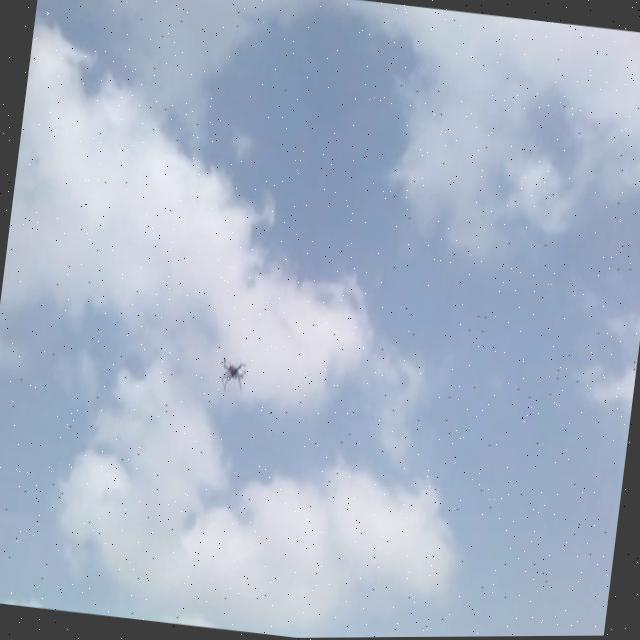drone: (214, 347, 252, 397)
